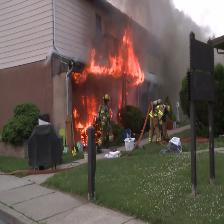fire: (57, 26, 156, 157)
smoke: (117, 0, 224, 98)
